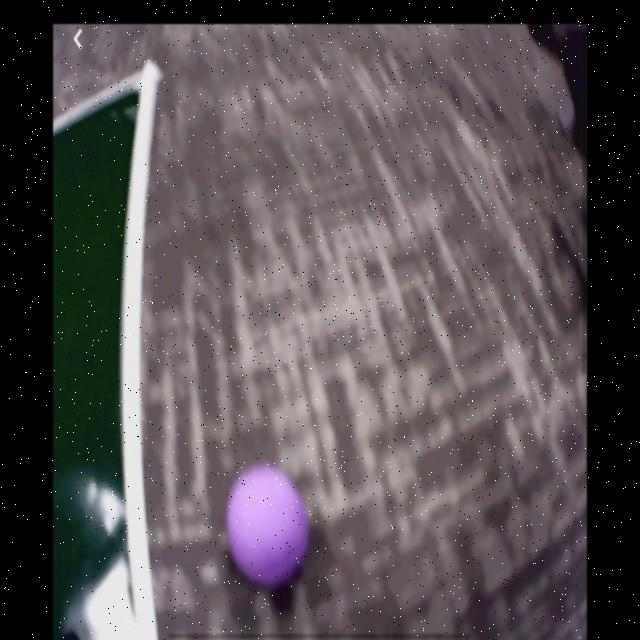ball: (226, 464, 311, 591)
